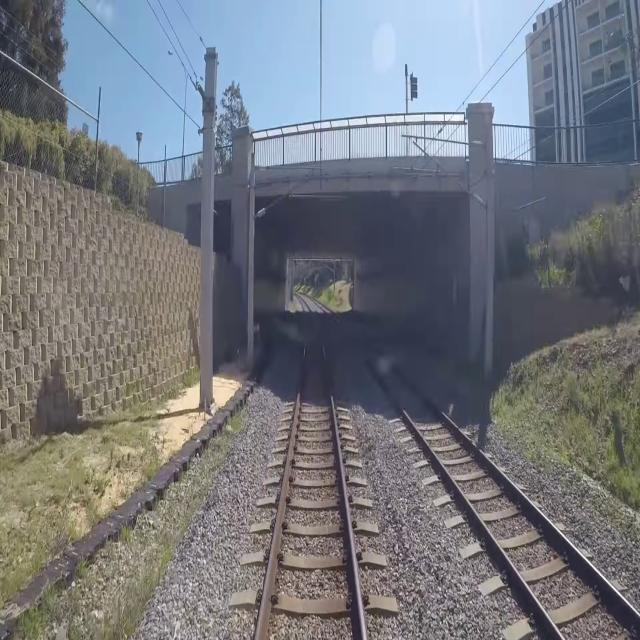rail-track: (330, 313, 640, 639), (259, 301, 362, 639)
